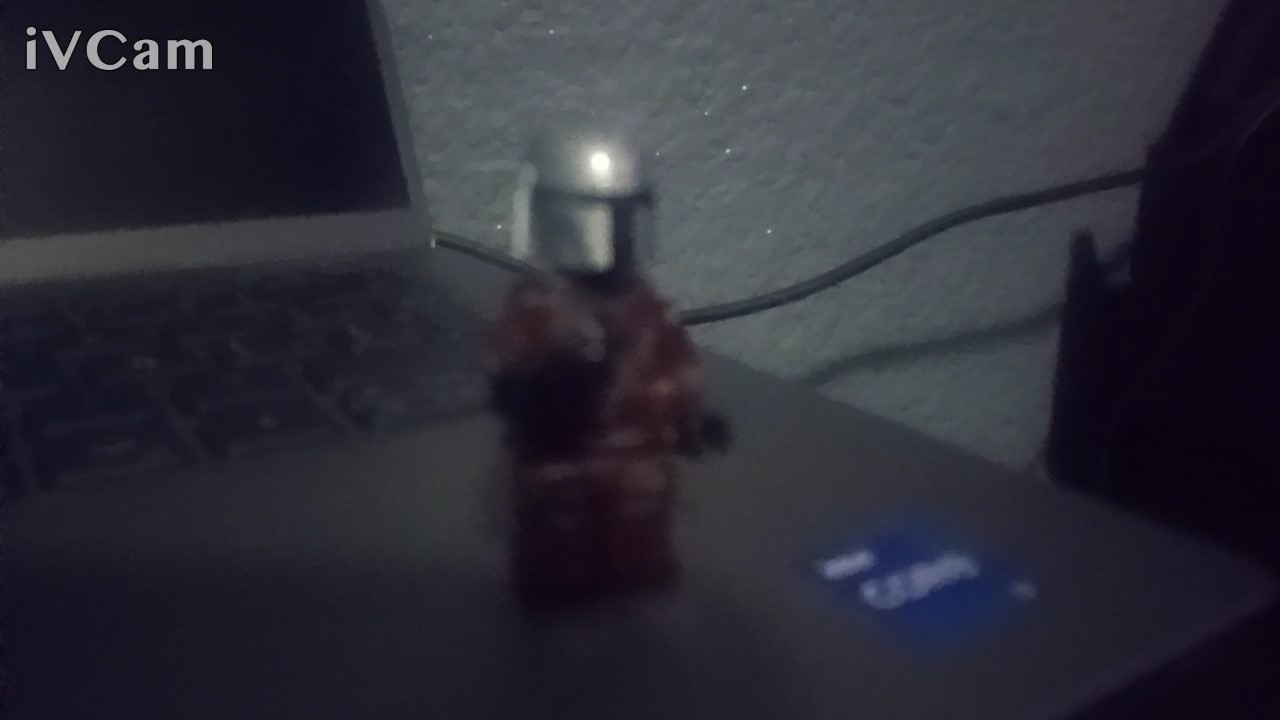mandalorian: (454, 102, 746, 625)
